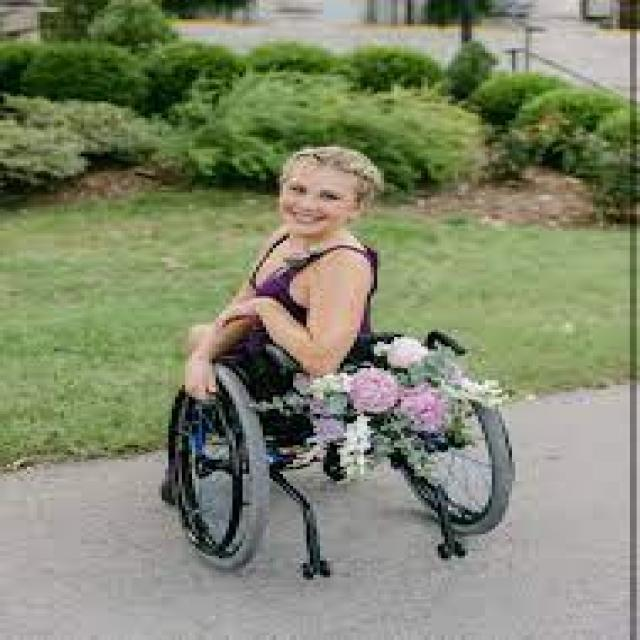wheelchairs: (123, 284, 536, 610)
